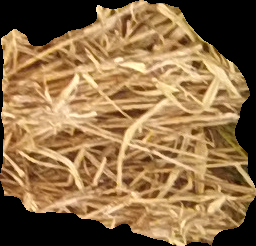soil: (1, 1, 255, 246)
